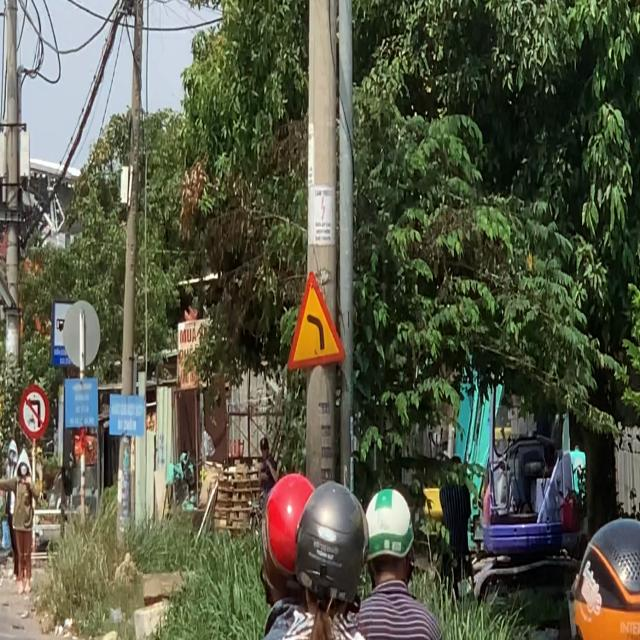Cam re trai: (18, 383, 49, 439)
Nguy hiem: (284, 268, 348, 376)
